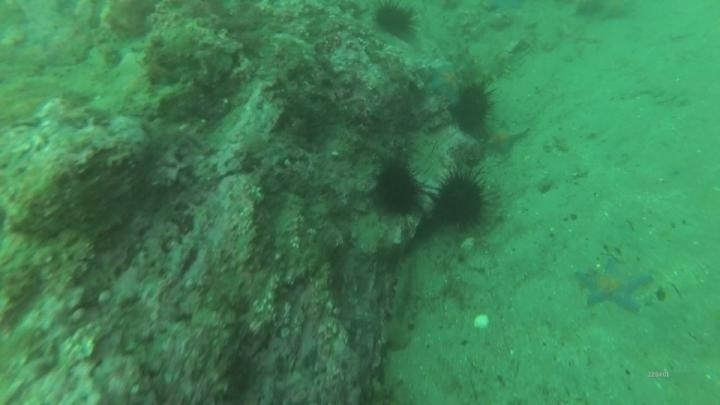echinus: (429, 167, 495, 232), (369, 158, 426, 219), (450, 80, 497, 135), (370, 1, 420, 41)
holothurian: (380, 256, 424, 351)
starfish: (573, 259, 655, 314), (423, 59, 467, 105), (481, 118, 529, 158)
